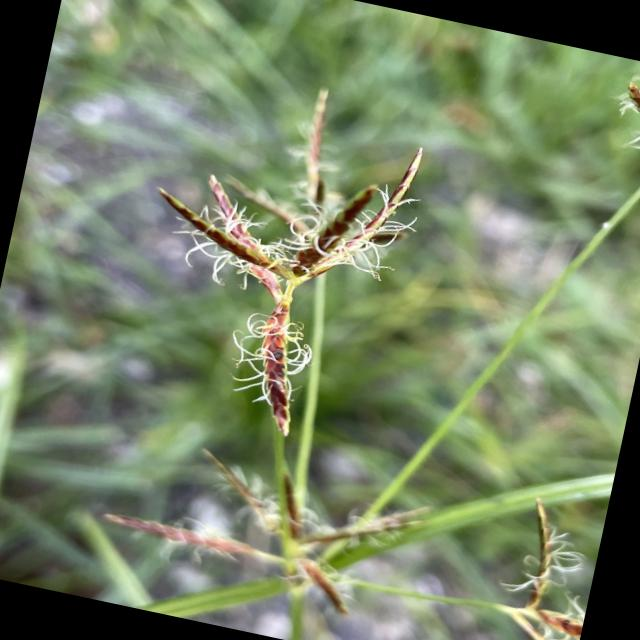cyperus: (103, 70, 491, 462), (72, 412, 440, 630), (474, 482, 608, 640), (593, 55, 640, 176)
